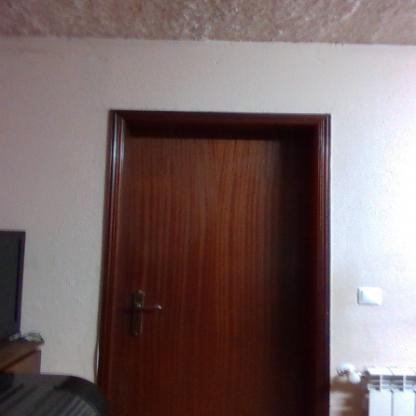door: (118, 134, 326, 416)
lever: (128, 300, 166, 314)
